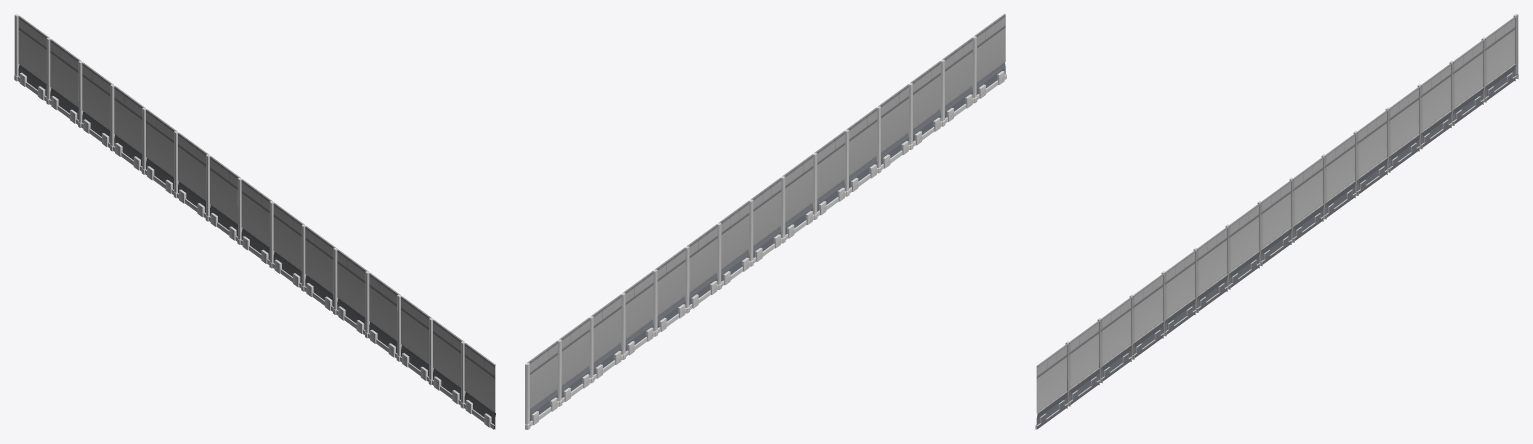
Rendered from Pfb_JALB_WallPart2_Line__20.fbx.
3 renders of one model, left to right at view 1: azimuth 30°, elevation 25°; view 2: azimuth 150°, elevation 25°; view 3: azimuth 330°, elevation 25°, orthographic.
Parts seen in each view (by area): view 1: MAT_JLABWall; view 2: MAT_JLABWall; view 3: MAT_JLABWall.
Part boxes in pixels (bbox=[...]): MAT_JLABWall: bbox=[14, 14, 495, 429]; MAT_JLABWall: bbox=[525, 14, 1006, 429]; MAT_JLABWall: bbox=[1035, 14, 1518, 429].
Size of the model in its own units: 0.2899 by 4.04 by 54.14.
1 material, 1 textured.
